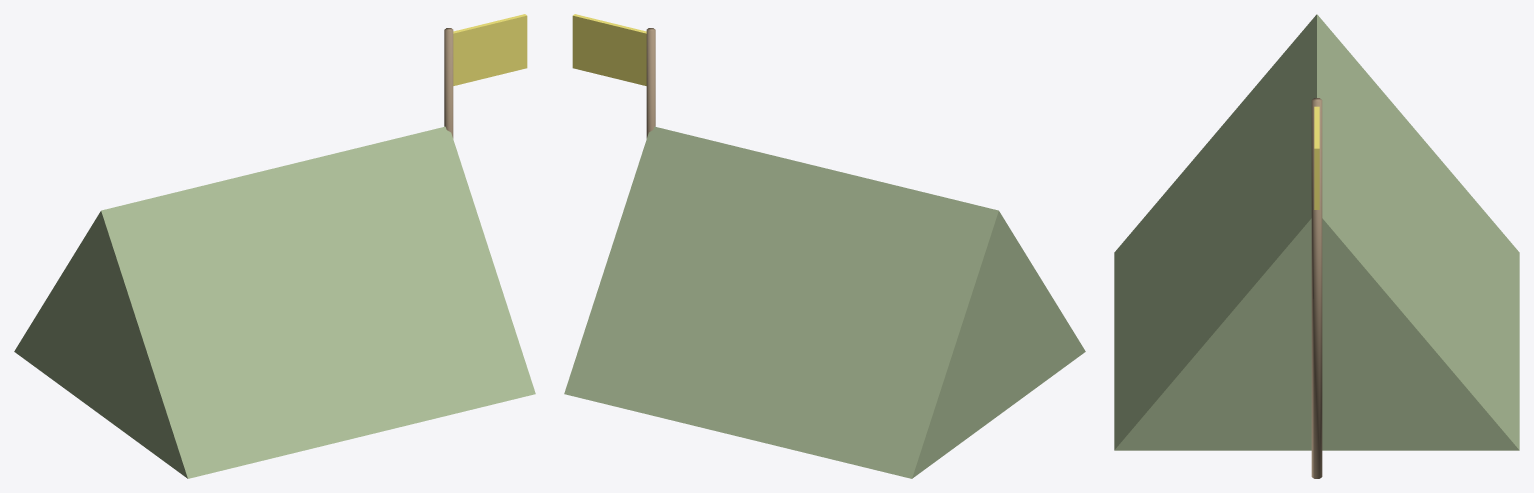
File: tent.glb
The picture shows the model from 3 angles, left to right: view 1: azimuth 30°, elevation 25°; view 2: azimuth 150°, elevation 25°; view 3: azimuth 270°, elevation 25°; orthographic projection. The views are drawn at different scales.
Parts seen in each view (by area): view 1: tent; view 2: tent; view 3: tent.
Part boxes in pixels (<box>): tent: <box>14,14,535,478</box>; tent: <box>564,14,1085,478</box>; tent: <box>1114,14,1519,478</box>.
Bounding box in the file's own units: 2.2 × 1.6 × 1.56.
